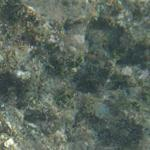dead: (4, 6, 142, 145)
